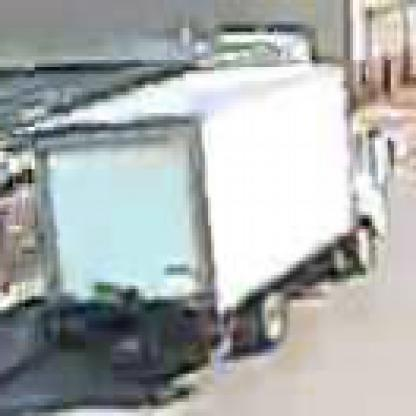truck: (32, 61, 392, 378)
